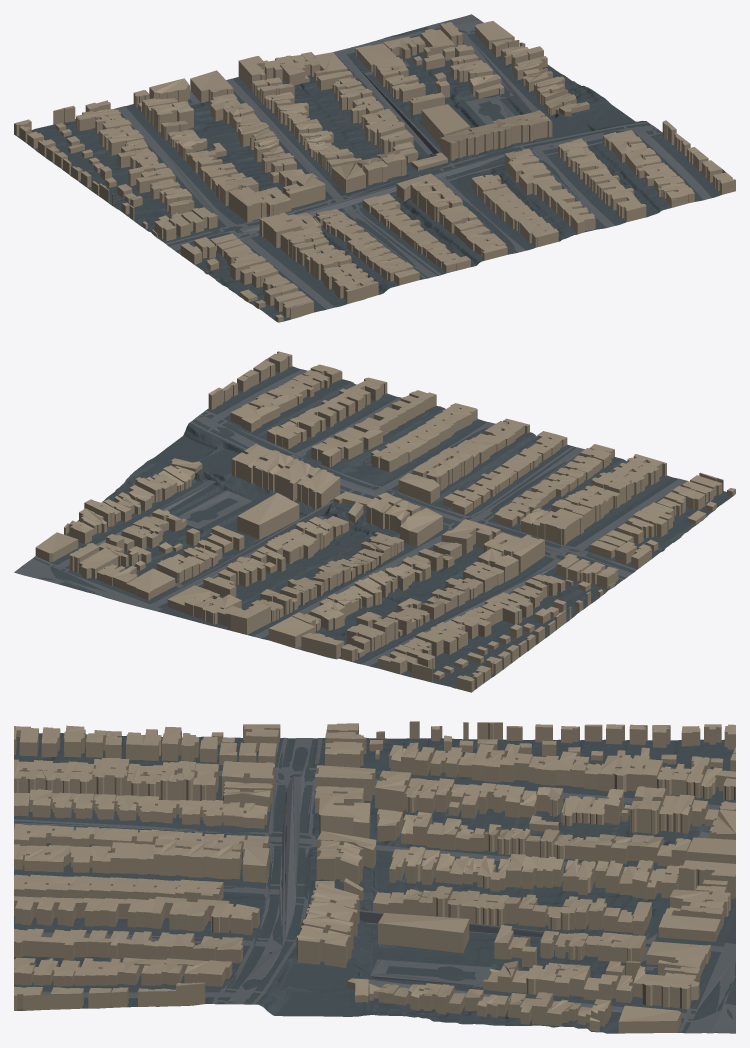
Rendered from epsg26910-1427-10890.lod0.glb.
3 views of the same model, one above another, from view 1: azimuth 30°, elevation 25°; view 2: azimuth 150°, elevation 25°; view 3: azimuth 270°, elevation 25° (orthographic). The views are drawn at different scales.
Visible parts, largest first — view 1: epsg26910-1427-10890-lod0; view 2: epsg26910-1427-10890-lod0; view 3: epsg26910-1427-10890-lod0.
Part boxes in pixels (bbox=[...]): epsg26910-1427-10890-lod0: bbox=[14, 14, 735, 322]; epsg26910-1427-10890-lod0: bbox=[14, 351, 735, 692]; epsg26910-1427-10890-lod0: bbox=[14, 721, 735, 1033].
Bounding box in the file's own units: 384 × 37.38 × 384.
